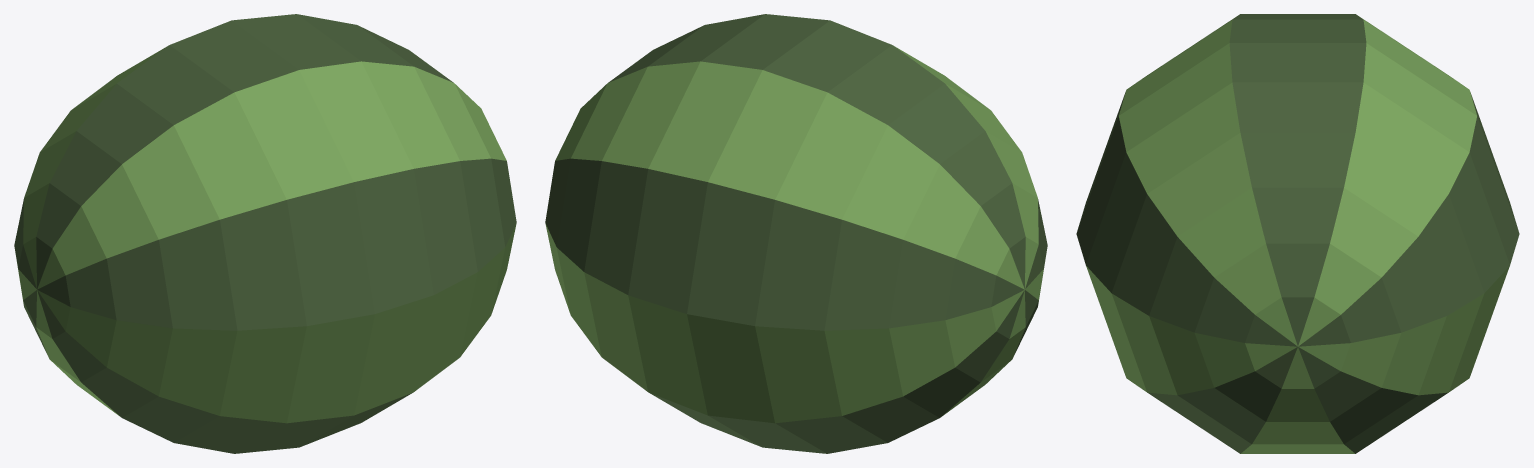
The model's file is watermelon_crop.gltf.
3 renders of one model, left to right at view 1: azimuth 30°, elevation 25°; view 2: azimuth 150°, elevation 25°; view 3: azimuth 270°, elevation 25°, orthographic.
Parts seen in each view (by area): view 1: watermelon_crop; view 2: watermelon_crop; view 3: watermelon_crop.
Boxes of the visible parts, x1,y1,x2,y2 form: watermelon_crop: [14, 14, 516, 453]; watermelon_crop: [545, 14, 1047, 453]; watermelon_crop: [1076, 14, 1519, 453].
Size of the model in its own units: 0.4443 by 0.351 by 0.369.
1 material, 1 textured.
